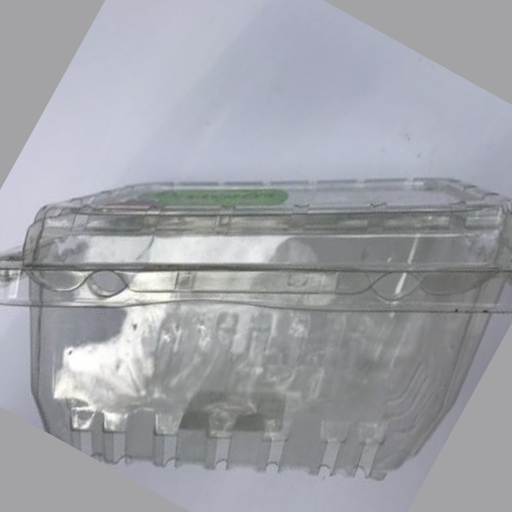Plastic_4: (1, 176, 512, 482)
